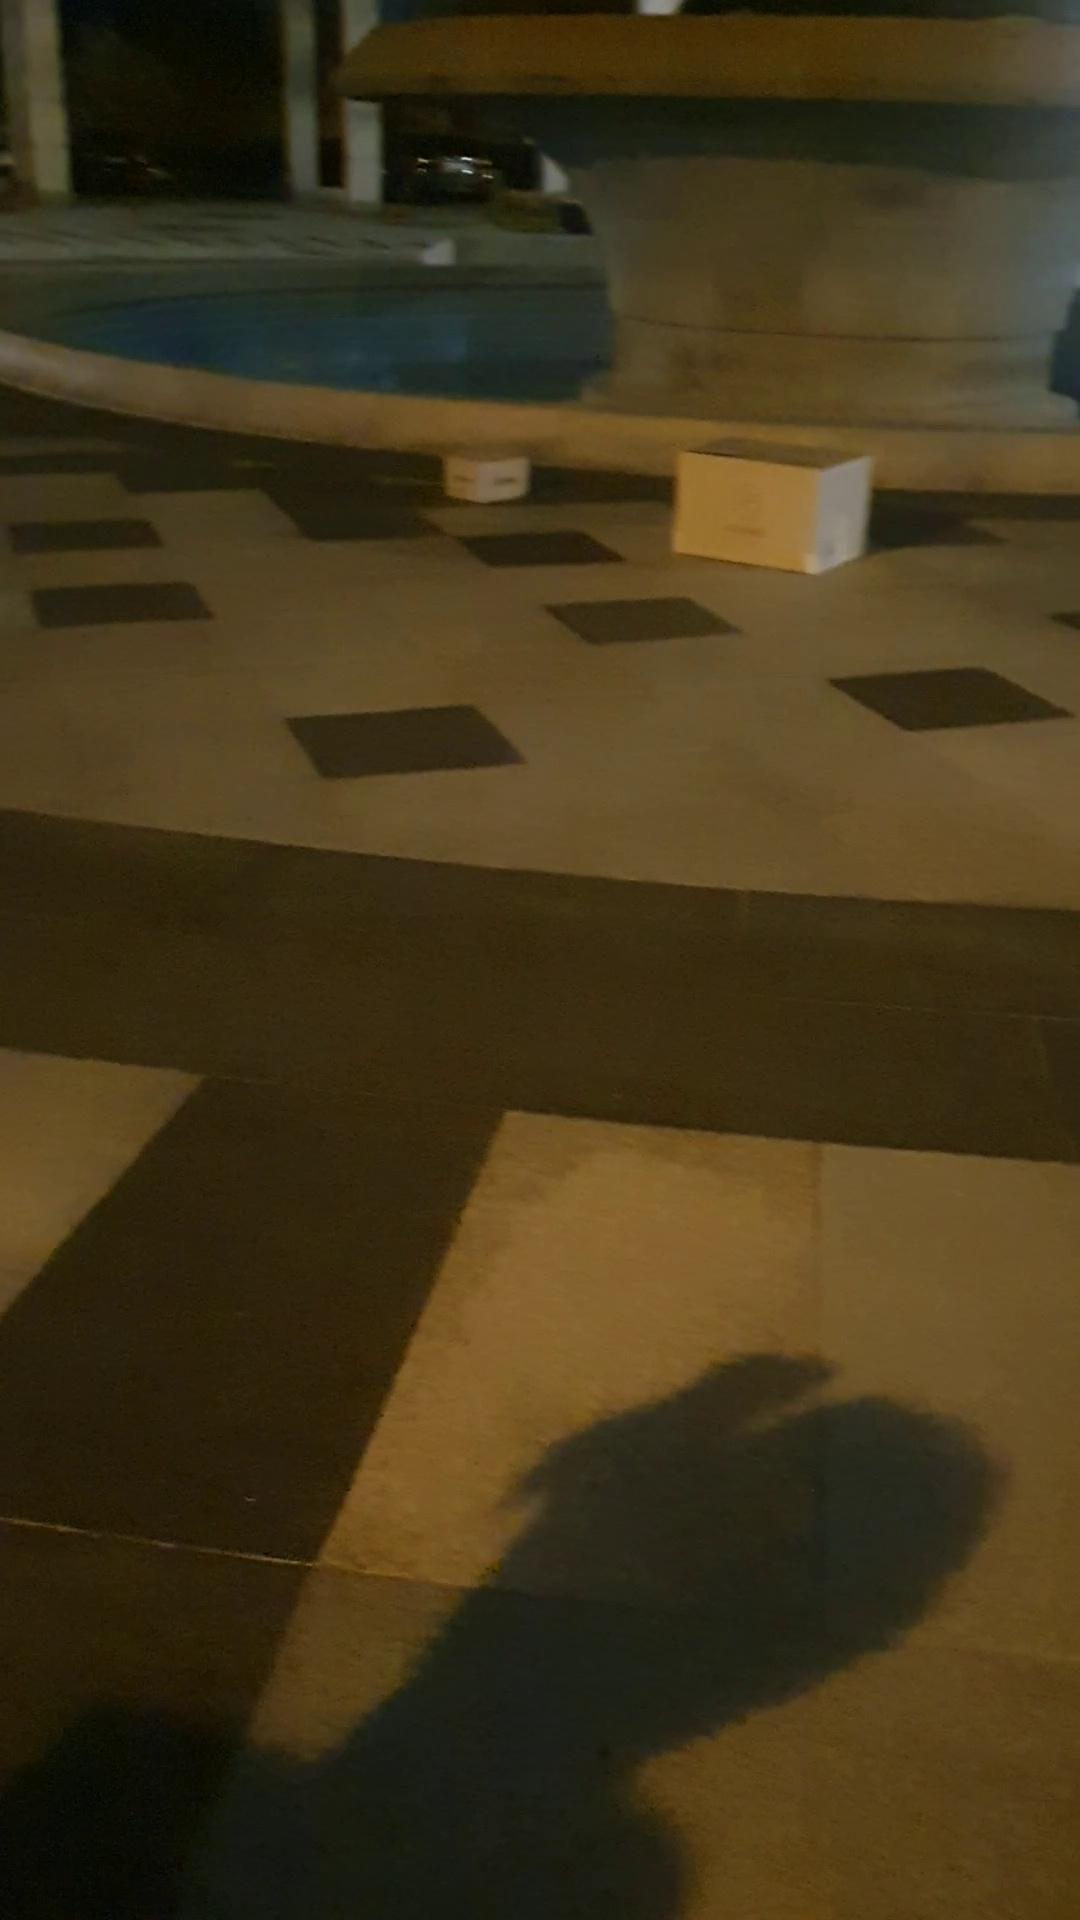Box: (691, 443, 872, 568), (448, 443, 520, 510)
